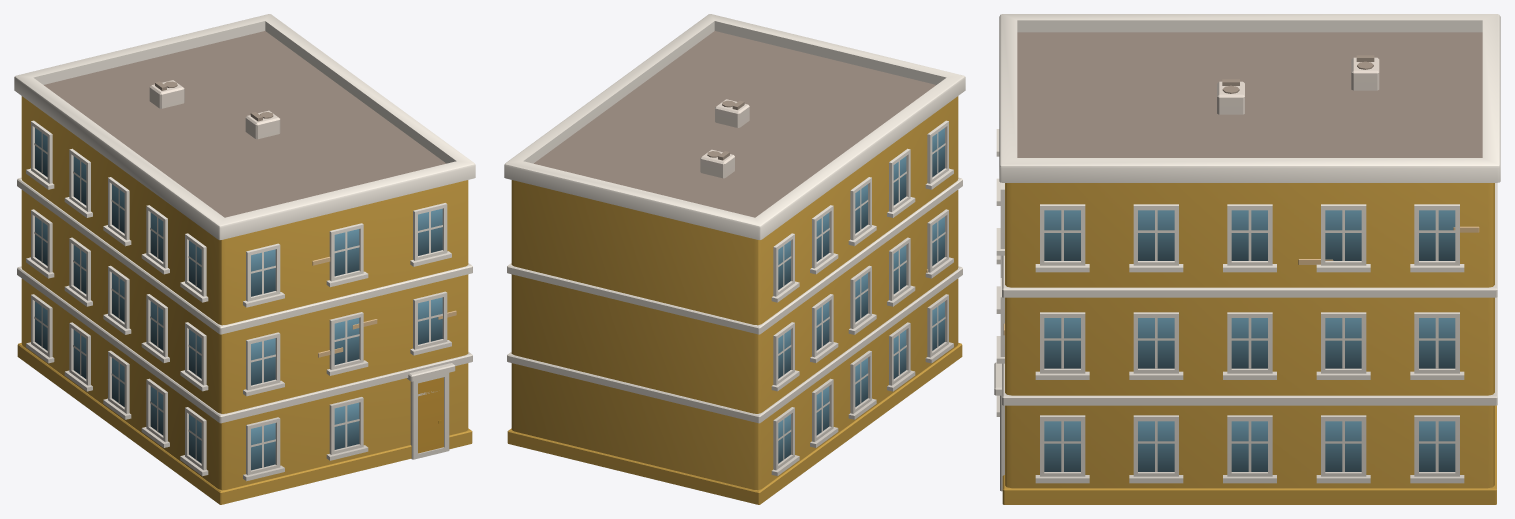
Rendered from boylston_s15.glb.
3 views of the same model, side by side, from view 1: azimuth 30°, elevation 25°; view 2: azimuth 150°, elevation 25°; view 3: azimuth 270°, elevation 25° (orthographic). The views are drawn at different scales.
Parts seen in each view (by area): view 1: boylston_s15; view 2: boylston_s15; view 3: boylston_s15.
Part boxes in pixels (x1,y1,x2,y2): boylston_s15: (14, 14, 475, 504); boylston_s15: (504, 14, 965, 504); boylston_s15: (994, 14, 1500, 504).
Size of the model in its own units: 10.48 by 11.11 by 14.46.
Materials: 1 (1 with a texture image).
